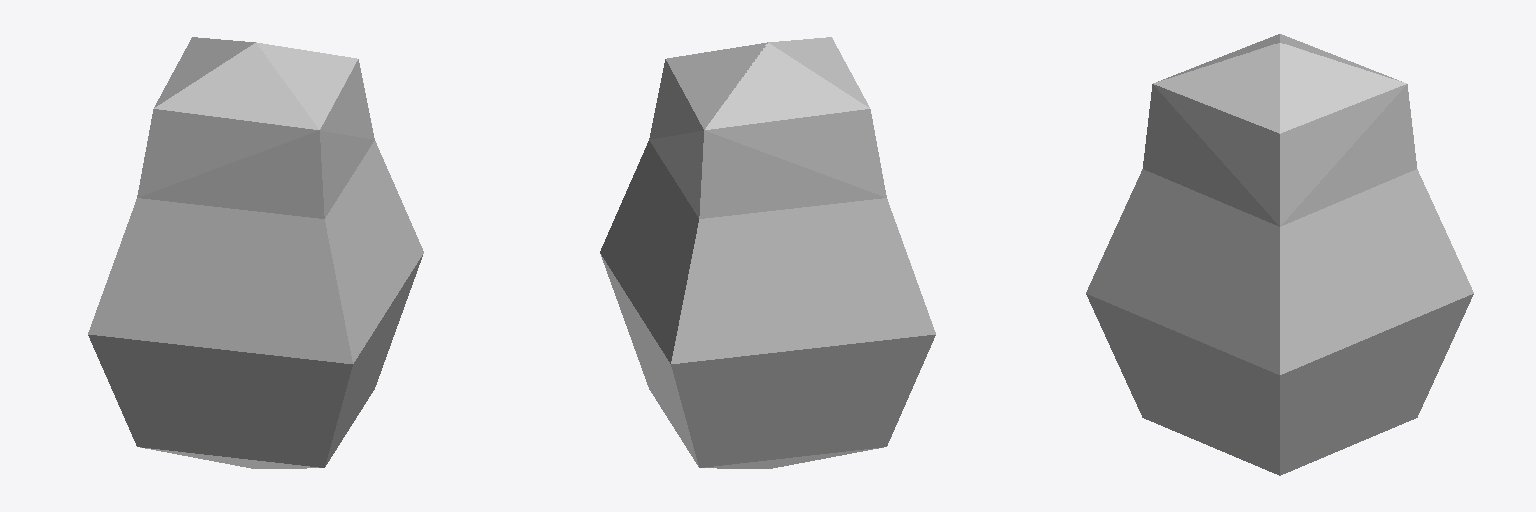
File: light.obj
The picture shows the model from 3 angles: view 1: azimuth 30°, elevation 25°; view 2: azimuth 150°, elevation 25°; view 3: azimuth 270°, elevation 25°; orthographic projection.
Parts seen in each view (by area): view 1: Sphere.001; view 2: Sphere.001; view 3: Sphere.001.
Boxes of the visible parts, x1=… form: Sphere.001: x1=88, y1=37, x2=423, y2=468; Sphere.001: x1=600, y1=37, x2=935, y2=468; Sphere.001: x1=1086, y1=34, x2=1473, y2=475.
Bounding box in the file's own units: 2 × 2.42 × 2.